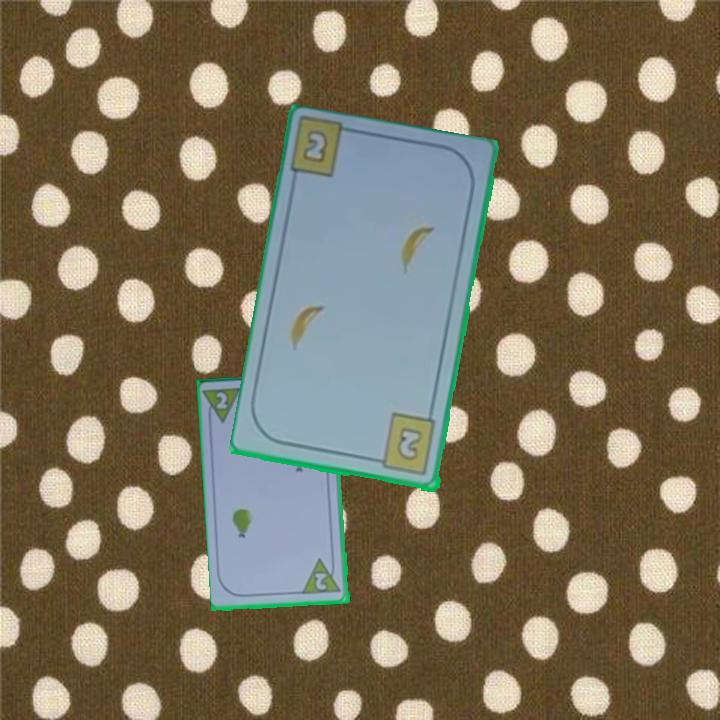2b: (370, 410, 439, 479), (299, 126, 331, 167)
2p: (201, 384, 246, 428), (312, 569, 330, 593)
